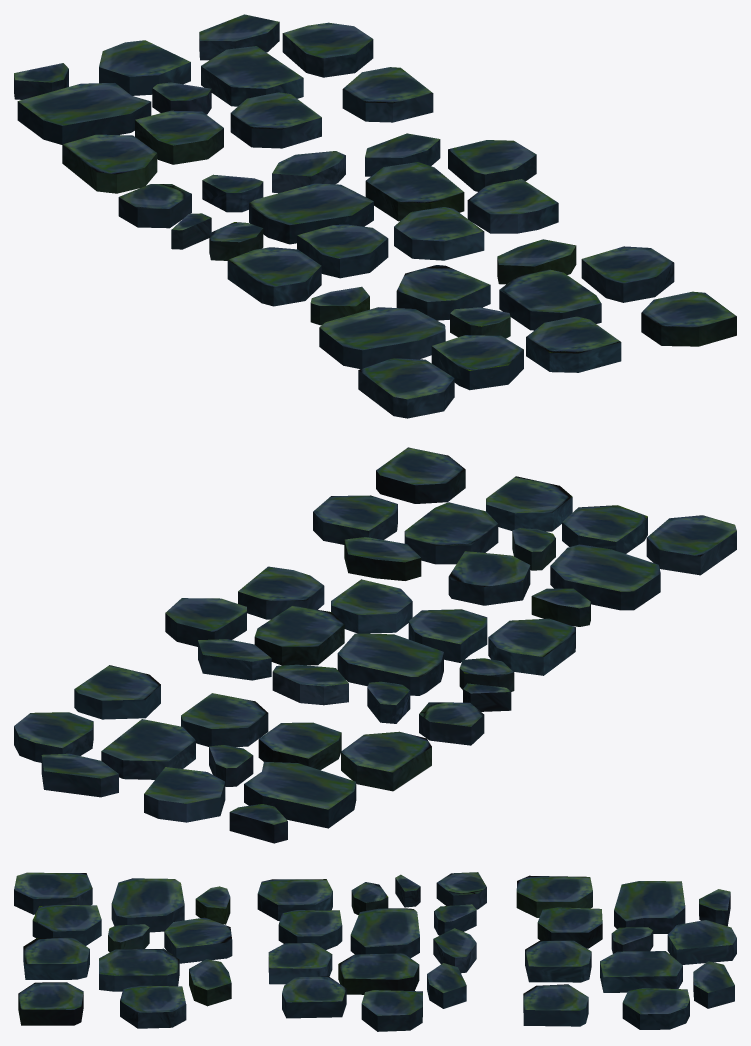
Rendered from rock2 1.fbx.
3 renders of one model, top to bottom at view 1: azimuth 30°, elevation 25°; view 2: azimuth 150°, elevation 25°; view 3: azimuth 270°, elevation 25°, orthographic. The views are drawn at different scales.
Visible parts, largest first — view 1: Plane.002; view 2: Plane.002; view 3: Plane.002.
Part boxes in pixels (box(x1,y1,x2,y2)): Plane.002: box(14, 14, 736, 418); Plane.002: box(14, 447, 736, 843); Plane.002: box(14, 872, 736, 1031).
Size of the model in its own units: 44.7 by 2.3 by 94.94.
1 material, 1 textured.
